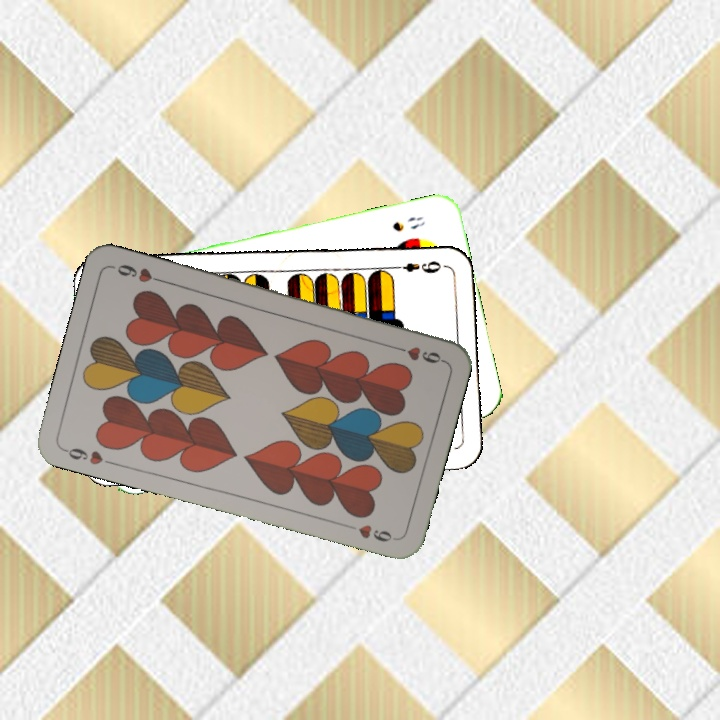E9: (389, 256, 448, 276)
H9: (388, 341, 446, 366), (59, 443, 117, 468)
S8: (388, 212, 428, 234)
